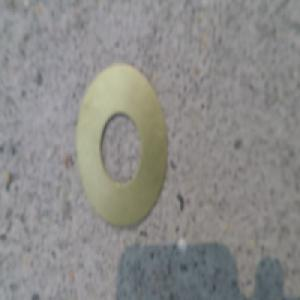Washer: (75, 67, 170, 238)
